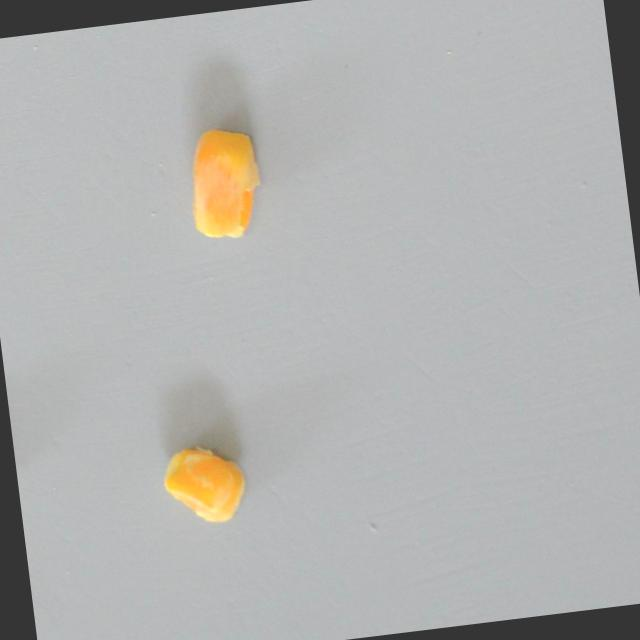dañado: (175, 114, 272, 250), (154, 435, 253, 531)
